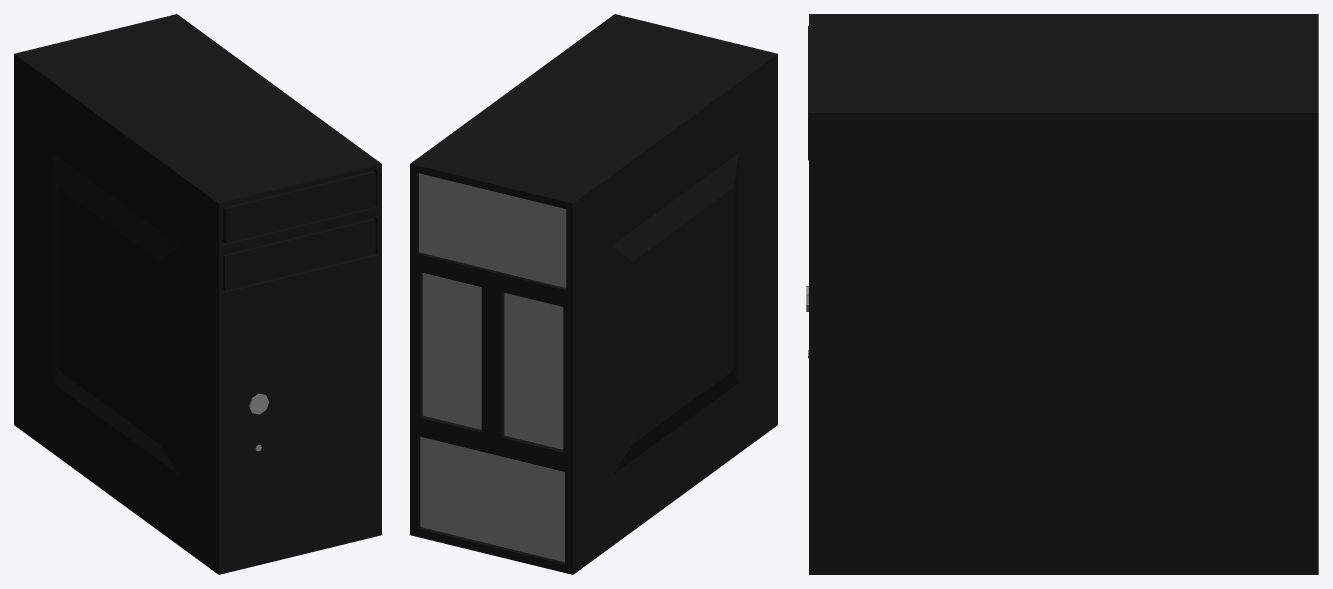
Rendered from keis.glb.
3 views of the same model, side by side, from view 1: azimuth 30°, elevation 25°; view 2: azimuth 150°, elevation 25°; view 3: azimuth 270°, elevation 25° (orthographic). The views are drawn at different scales.
Parts seen in each view (by area): view 1: Computer; view 2: Computer; view 3: Computer.
Boxes of the visible parts, left/top/right/bottom form: Computer: left=14, top=14, right=381, bottom=574; Computer: left=410, top=14, right=777, bottom=574; Computer: left=806, top=14, right=1318, bottom=574.
Bounding box in the file's own units: 0.1607 × 0.3347 × 0.3364.
1 material, 1 textured.
